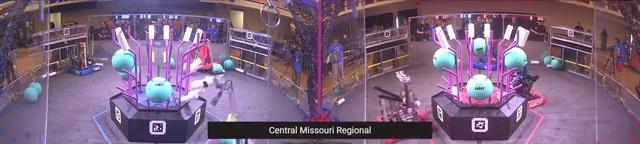reef: (111, 24, 208, 144), (433, 22, 526, 140)
robot: (374, 69, 432, 144), (512, 68, 547, 109), (68, 41, 102, 77), (216, 112, 251, 144), (195, 40, 220, 72), (475, 54, 504, 72)
